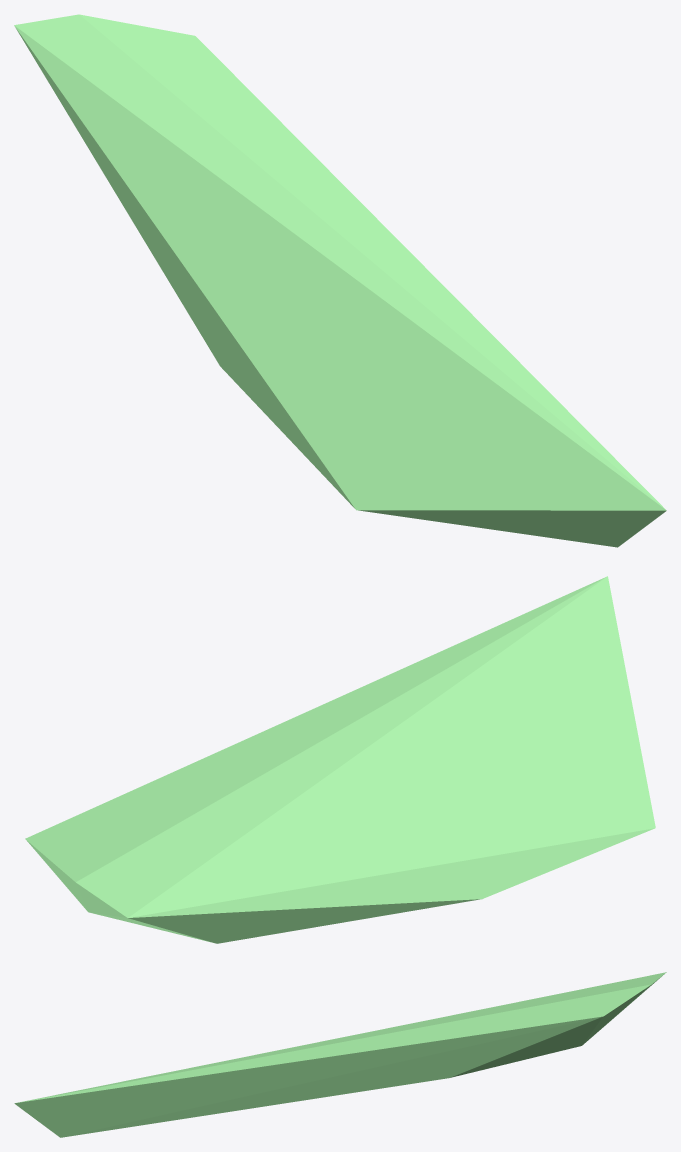
Rendered from dualpanda_Panda_rightArm_link5_respondable_coll_4.dae.
3 renders of one model, top to bottom at view 1: azimuth 30°, elevation 25°; view 2: azimuth 150°, elevation 25°; view 3: azimuth 270°, elevation 25°, orthographic. The views are drawn at different scales.
Parts seen in each view (by area): view 1: node; view 2: node; view 3: node.
Part boxes in pixels (x1=…): node: x1=14, y1=14, x2=666, y2=547; node: x1=25, y1=576, x2=655, y2=943; node: x1=14, y1=972, x2=666, y2=1137.
Size of the model in its own units: 0.0315 by 0.0362 by 0.1613.
